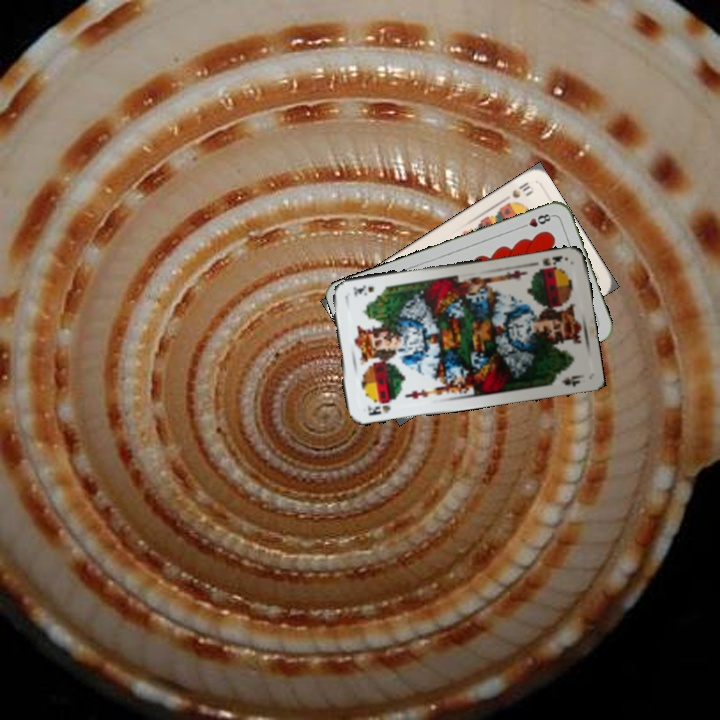H8: (516, 210, 556, 231)
S10: (498, 178, 536, 205)
SK: (363, 401, 393, 418), (539, 252, 565, 268)
